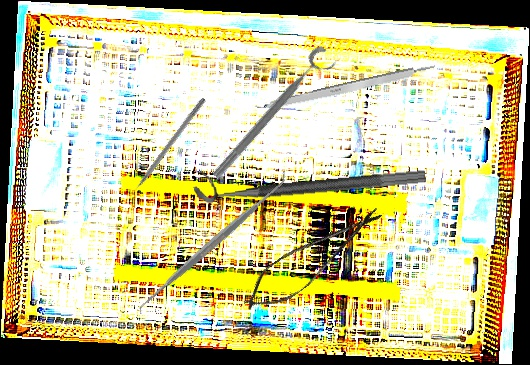Fixation Ring: (208, 43, 340, 189), (192, 150, 426, 205)
Micro Scissor: (235, 194, 390, 323)
Pusher: (123, 96, 207, 203)
Scalpel Handle: (262, 62, 438, 114)
Spatula Surgical: (129, 168, 297, 318)
